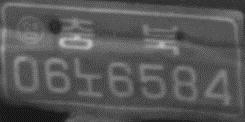0: (13, 54, 39, 93)
4: (202, 69, 232, 105)
5: (138, 62, 168, 100)
6: (43, 57, 70, 94), (107, 61, 134, 98)
8: (172, 65, 197, 103)
노: (73, 57, 103, 99)
영: (16, 16, 46, 47)
충북_D: (59, 17, 179, 54)
